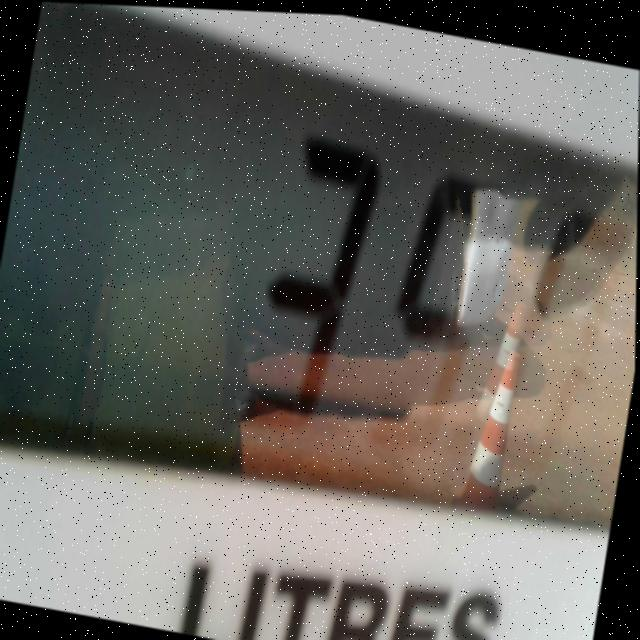.: (467, 425, 497, 468)
0: (493, 198, 625, 489)
3: (245, 95, 389, 437)
5: (373, 156, 504, 454)
